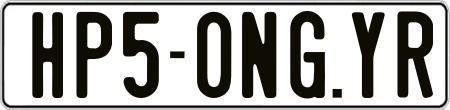0: (197, 10, 233, 99)
5: (123, 10, 159, 99)
G: (290, 11, 328, 104)
H: (30, 12, 65, 103)
N: (240, 11, 277, 101)
P: (75, 11, 116, 100)
R: (395, 10, 433, 97)
Y: (352, 9, 385, 101)
